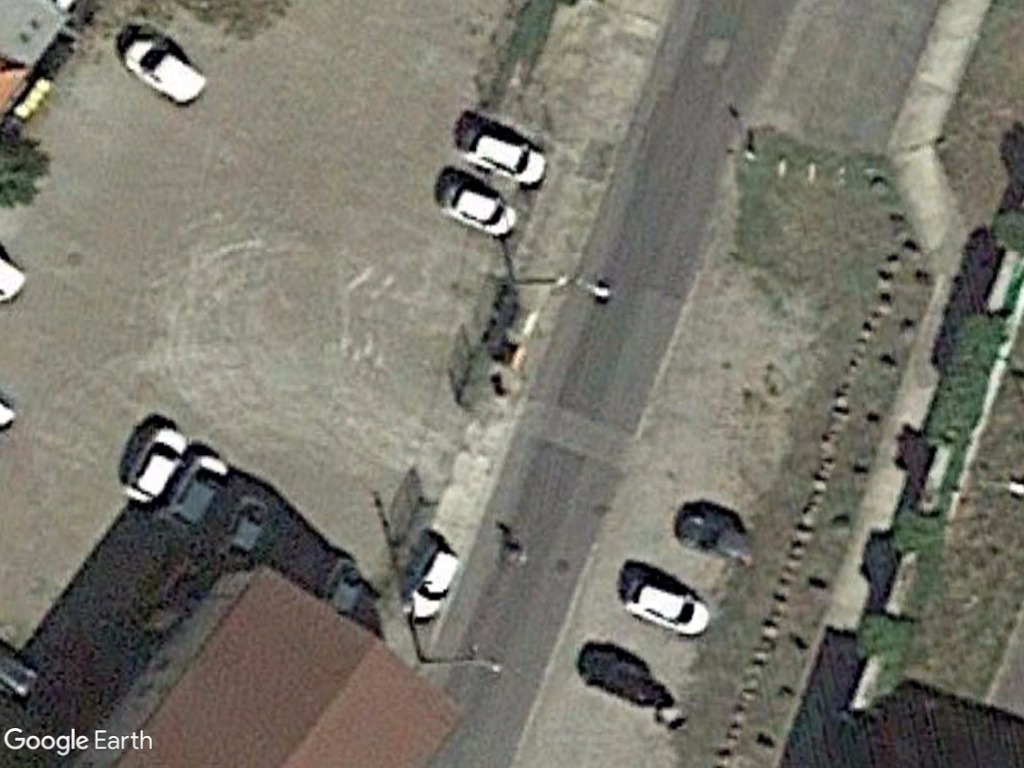car: (615, 559, 717, 642), (122, 21, 210, 116), (450, 114, 551, 189), (399, 530, 465, 632), (113, 421, 194, 503), (433, 178, 520, 246)
